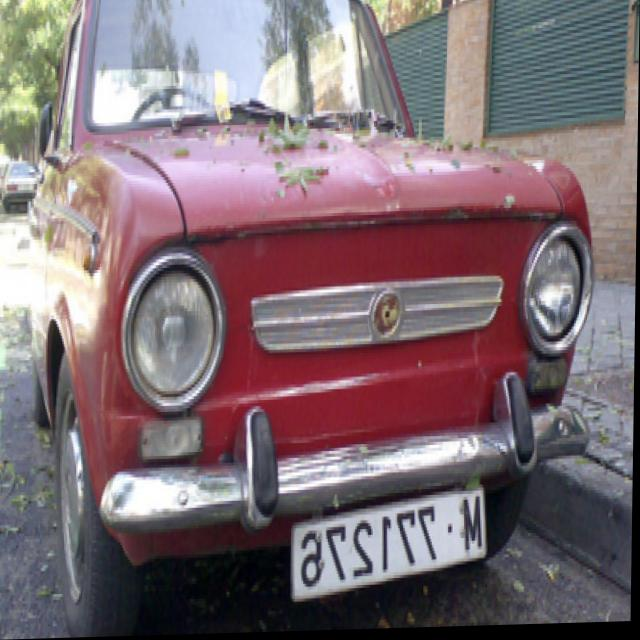licence: (289, 473, 497, 613)
